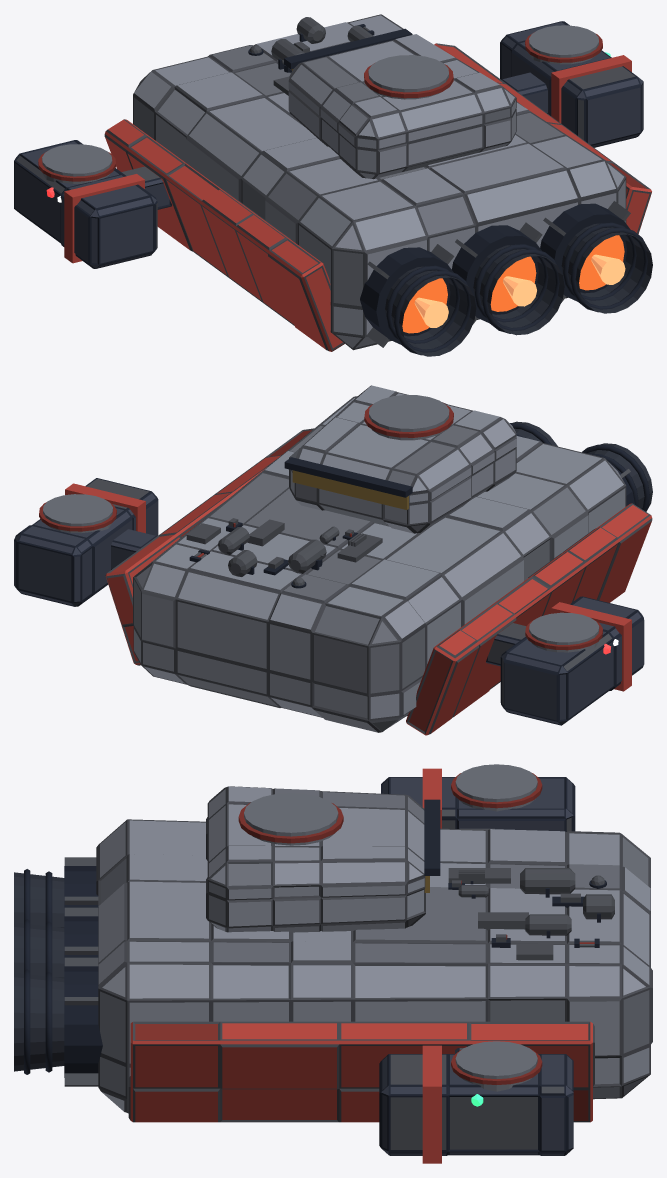
File: bastion.glb
The picture shows the model from 3 angles, top to bottom: view 1: azimuth 30°, elevation 25°; view 2: azimuth 150°, elevation 25°; view 3: azimuth 270°, elevation 25°; orthographic projection. The views are drawn at different scales.
Visible parts, largest first — view 1: bastion_mesh; view 2: bastion_mesh; view 3: bastion_mesh.
Boxes of the visible parts, <box> form: bastion_mesh: <box>14,14,652,356</box>; bastion_mesh: <box>14,385,652,735</box>; bastion_mesh: <box>14,764,652,1163</box>.
Size of the model in its own units: 11.8 by 4.27 by 9.95.
